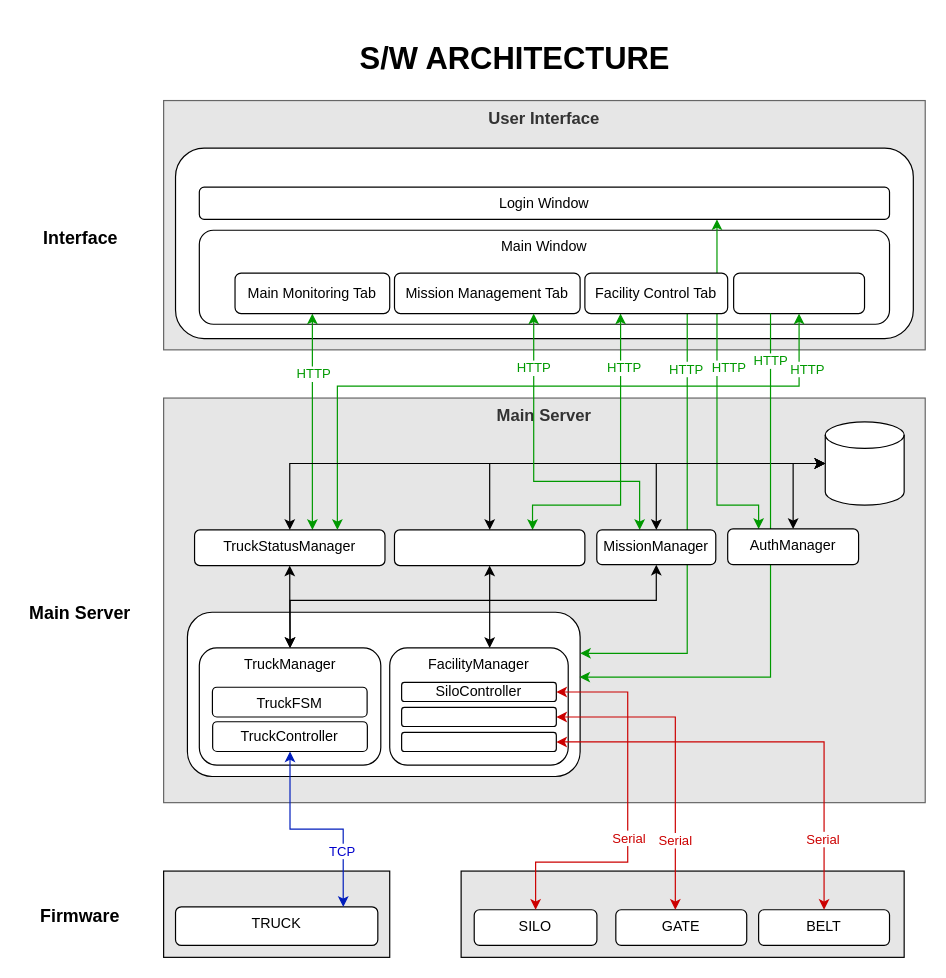
This 946x978 diagram has some shape labels left out. The shapes that lost their labels are listed below. From the top down, each one's box as (x1, y1, x2, y2) in pixels, then its label:
(174, 147, 913, 339): GUI
(732, 272, 865, 314): Truck Control Tab
(824, 421, 904, 505): Database
(393, 529, 585, 566): FacilityStatusManager
(186, 611, 580, 776): Main Controller
(400, 706, 556, 726): GateController
(400, 731, 556, 751): BeltController
(162, 870, 390, 957): Truck (ESP32)
(460, 870, 904, 957): Facilities(Arduino UNO)
